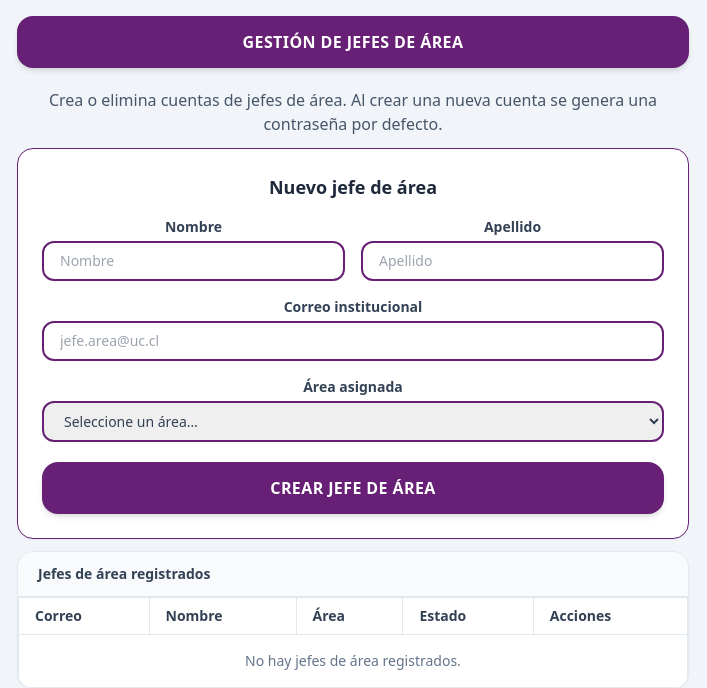
it: Usuarios flows (create, toggle, delete) › creates a new user and shows temp password
The width and height of the screenshot is (707, 688).
// fill form (use fireEvent.change to update React-controlled inputs)
In the field labelled "Correo institucional": {"x": 353, "y": 341} [42, 321, 664, 361], type "new@uc.cl"
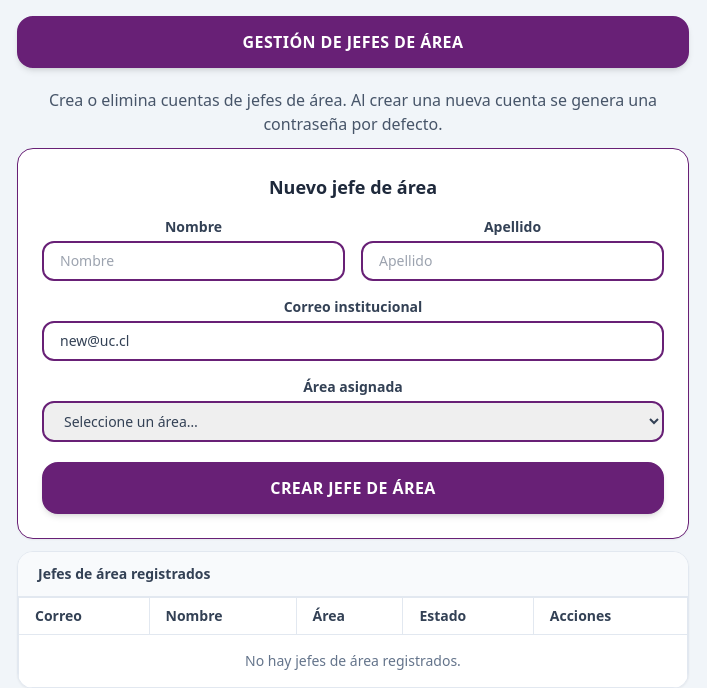
In the field labelled "Nombre": {"x": 194, "y": 261} [42, 241, 345, 281], type "Test"
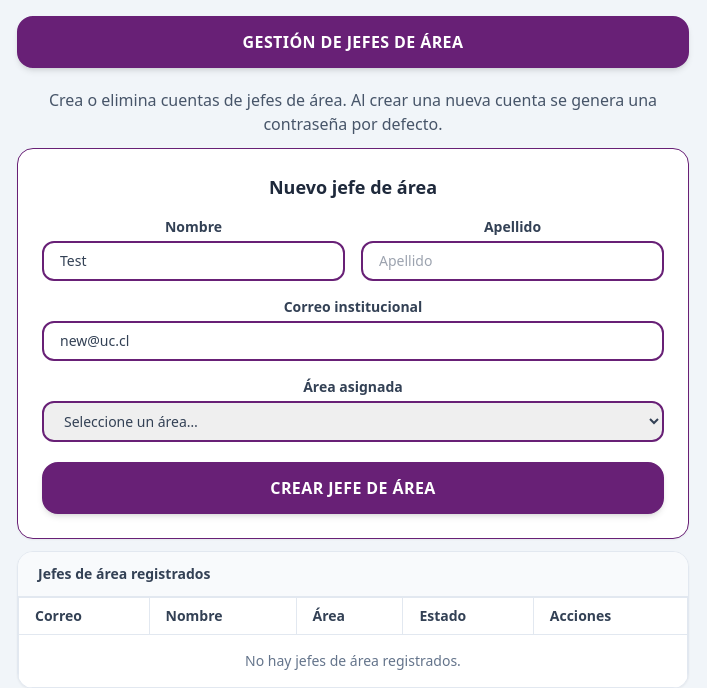
In the field labelled "Apellido": {"x": 512, "y": 261} [361, 241, 664, 281], type "User"
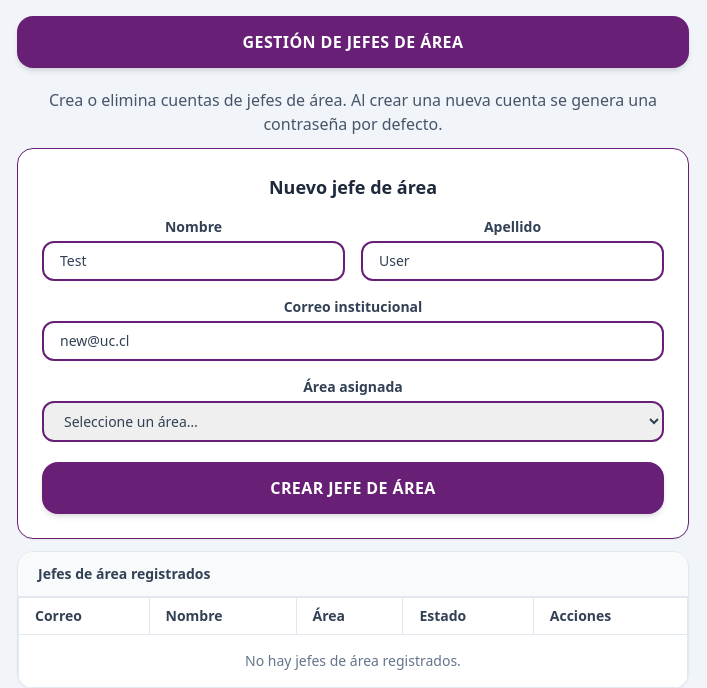
Select "Area A" in the dropdown labelled "Área asignada": {"x": 353, "y": 422} [42, 401, 664, 442]
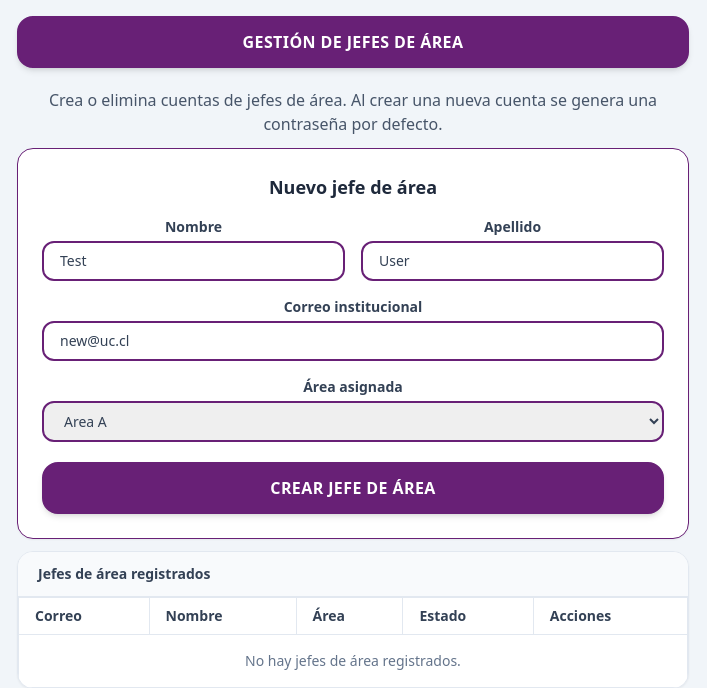
Click the button "Crear jefe de área": {"x": 353, "y": 488} [42, 462, 664, 514]
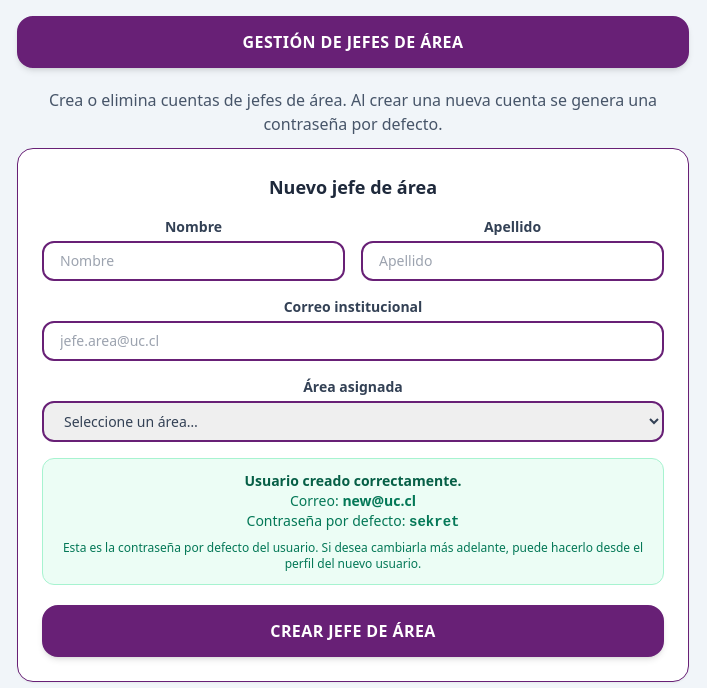
expect the text "Usuario creado correctamente." is shown: met, box [244, 471, 462, 490]
